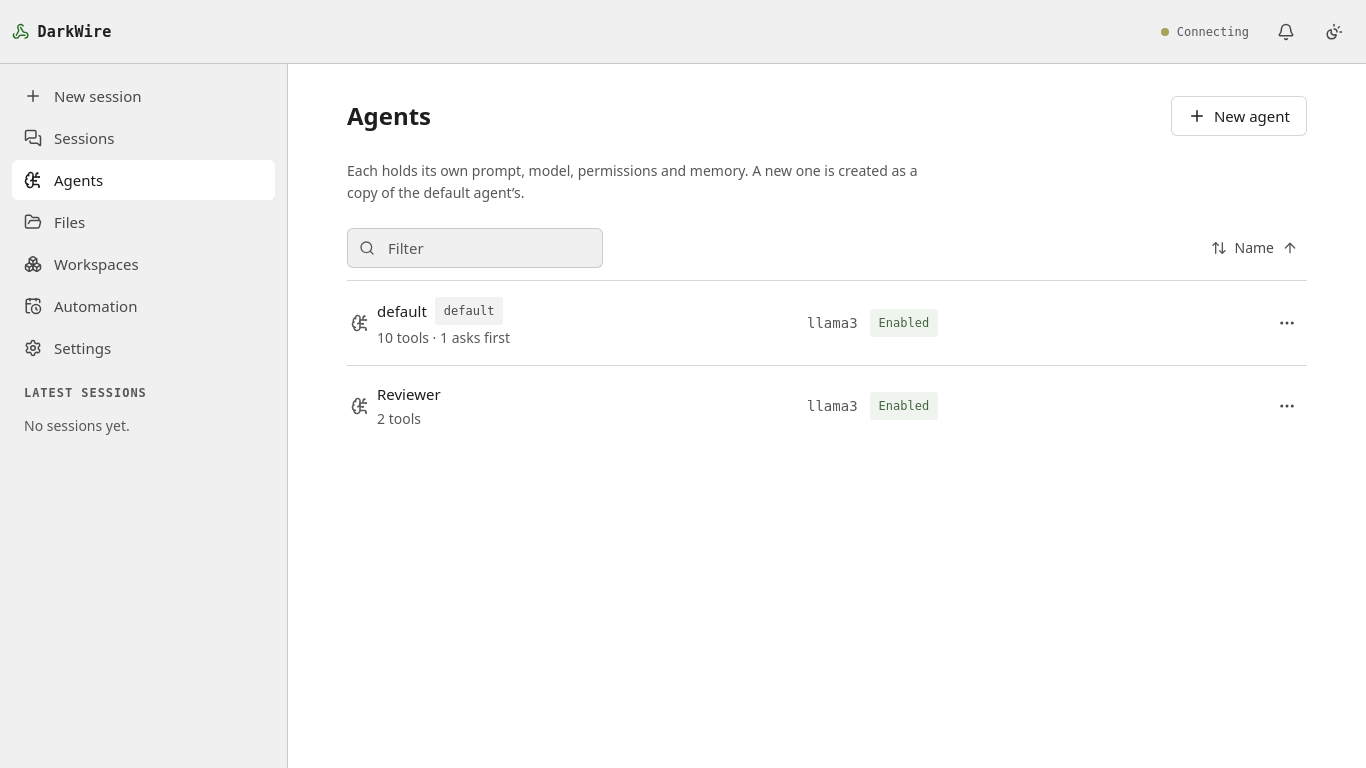
the agents index › sorts by status, and still keeps the default at the top
Step 1. Click the button with aria-label "Sort by" → coordinates (1254, 248), box [1202,228,1307,268]
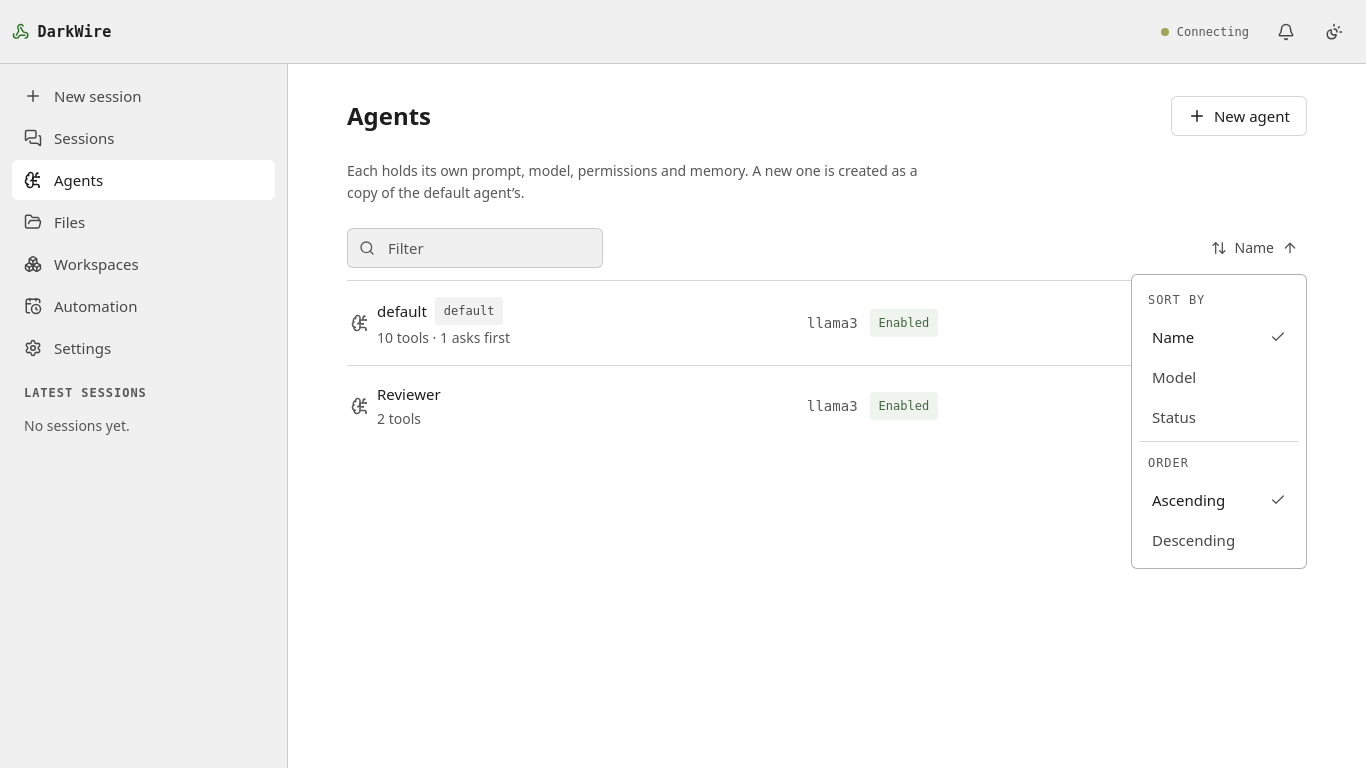
Step 2. Click the menu item "Status" → coordinates (1174, 417), box [1152,407,1196,427]
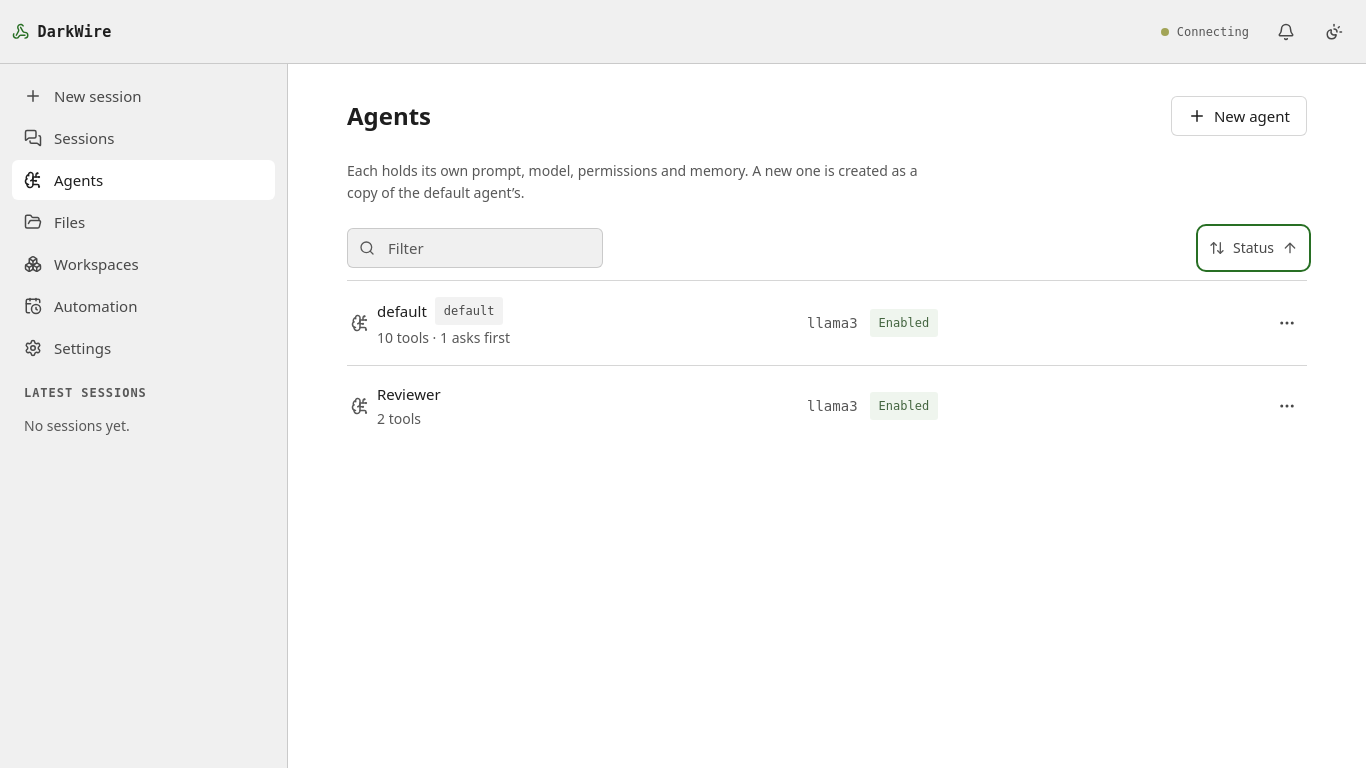
Check: the list item "default default 10 tools · 1 asks first llama3 Enabled" is shown, box [351,297,1307,347]
Check: the button with aria-label "Sort by Status" is shown, box [1200,228,1307,268]
